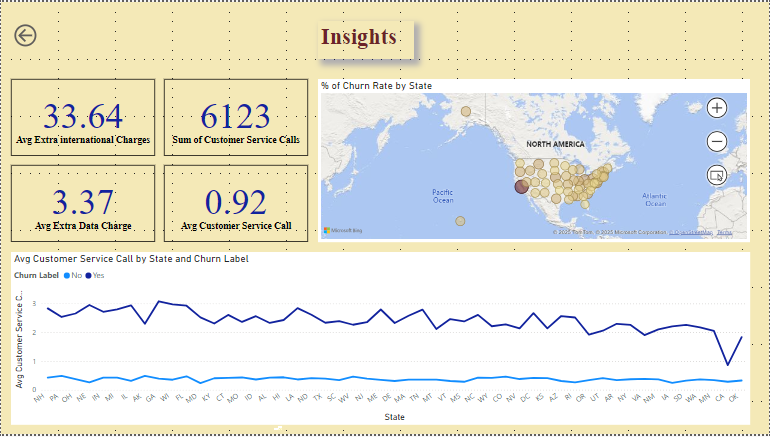

Layout of this report page (visuals, bound fields, positions):
{"tool":"powerbi","page":{"name":"Insights","canvas":[1280,720],"ordinal":9},"visuals":[{"type":"card","fields":{"Values":["__Measures.Avg Extra Data Charge"]},"box":[16,272,240,128],"z":0},{"type":"card","fields":{"Values":["__Measures.Avg Extra international Charges"]},"box":[16,128,240,128],"z":1000},{"type":"card","fields":{"Values":["__Measures.Avg Customer Service Call"]},"box":[272,272,240,128],"z":2000},{"type":"card","fields":{"Values":["Sum(Databel - Data.Customer Service Calls)"]},"box":[272,128,240,128],"z":3000},{"type":"map","fields":{"Category":["Databel - Data.State"],"Size":["__Measures.Churn Rate %"]},"box":[528,128,720,272],"z":4000},{"type":"lineChart","fields":{"Category":["Databel - Data.State"],"Y":["__Measures.Avg Customer Service Call"],"Series":["Databel - Data.Churn Label"]},"box":[16,416,1232,288],"z":5000},{"type":"actionButton","box":[16,32,48,48],"z":6000},{"type":"textbox","box":[528,32,160,64],"z":6001}]}

Visuals, with their boxes in screenshot pixels (x1, y1, x2, y2), scaled from the page's 1280x720 canvas onto the 770x437 screenshot:
card - __Measures.Avg Extra Data Charge: (left=10, top=165, right=154, bottom=243)
card - __Measures.Avg Extra international Charges: (left=10, top=78, right=154, bottom=155)
card - __Measures.Avg Customer Service Call: (left=164, top=165, right=308, bottom=243)
card - Sum(Databel - Data.Customer Service Calls): (left=164, top=78, right=308, bottom=155)
map - Databel - Data.State x __Measures.Churn Rate %: (left=318, top=78, right=751, bottom=243)
lineChart - Databel - Data.State x __Measures.Avg Customer Service Call: (left=10, top=252, right=751, bottom=427)
actionButton: (left=10, top=19, right=38, bottom=49)
textbox: (left=318, top=19, right=414, bottom=58)
